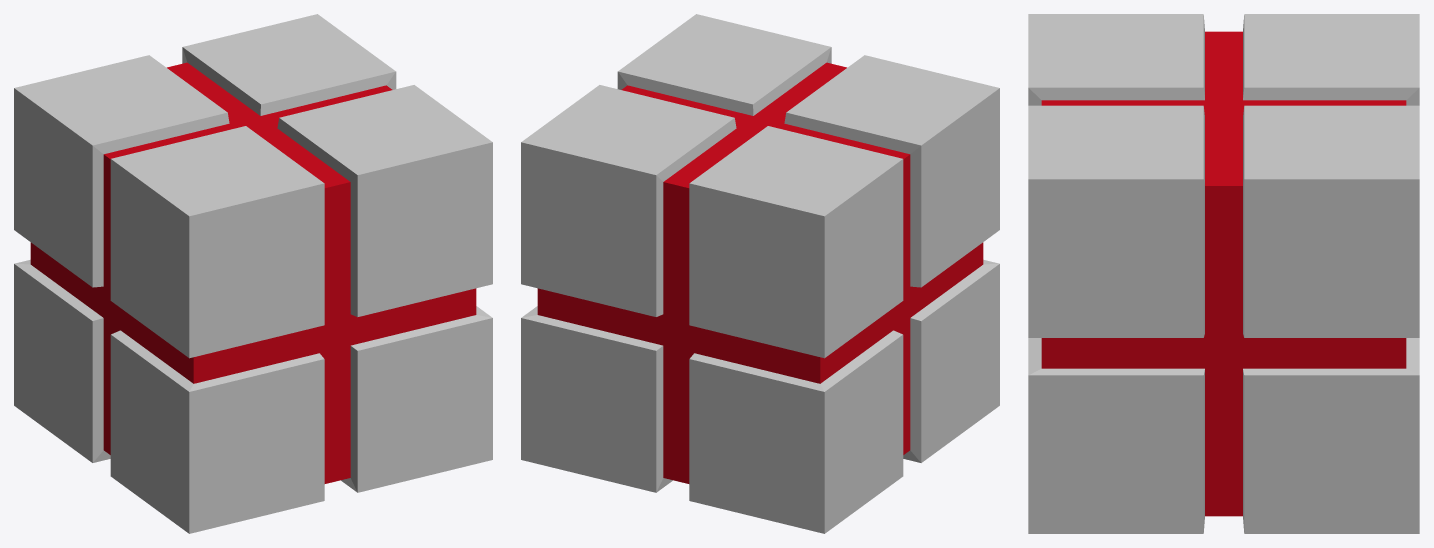
File: dummyEnemy.fbx
The picture shows the model from 3 angles, left to right: view 1: azimuth 30°, elevation 25°; view 2: azimuth 150°, elevation 25°; view 3: azimuth 270°, elevation 25°; orthographic projection. The views are drawn at different scales.
Parts seen in each view (by area): view 1: Cube; view 2: Cube; view 3: Cube.
Boxes of the visible parts, x1,y1,x2,y2 form: Cube: (14,14,492,533); Cube: (521,14,999,533); Cube: (1028,14,1419,533).
Size of the model in its own units: 200 by 200 by 200.
